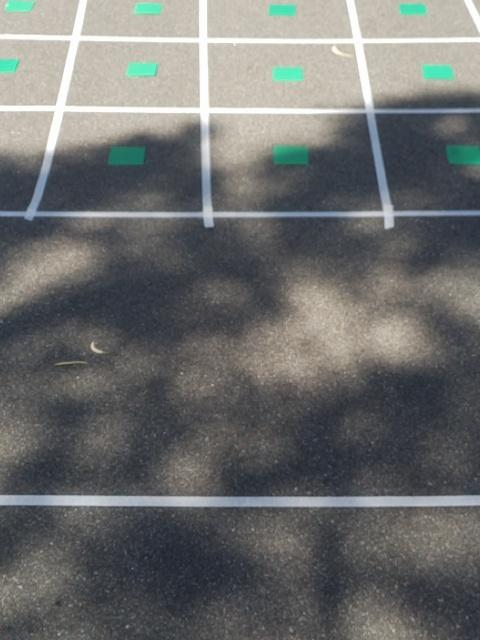weed: (441, 136, 480, 171), (102, 142, 148, 170), (418, 58, 462, 87), (123, 54, 164, 81), (271, 142, 312, 169), (272, 58, 306, 88), (396, 0, 430, 24), (128, 0, 166, 18), (266, 0, 296, 22), (0, 0, 38, 17), (0, 53, 23, 73)
